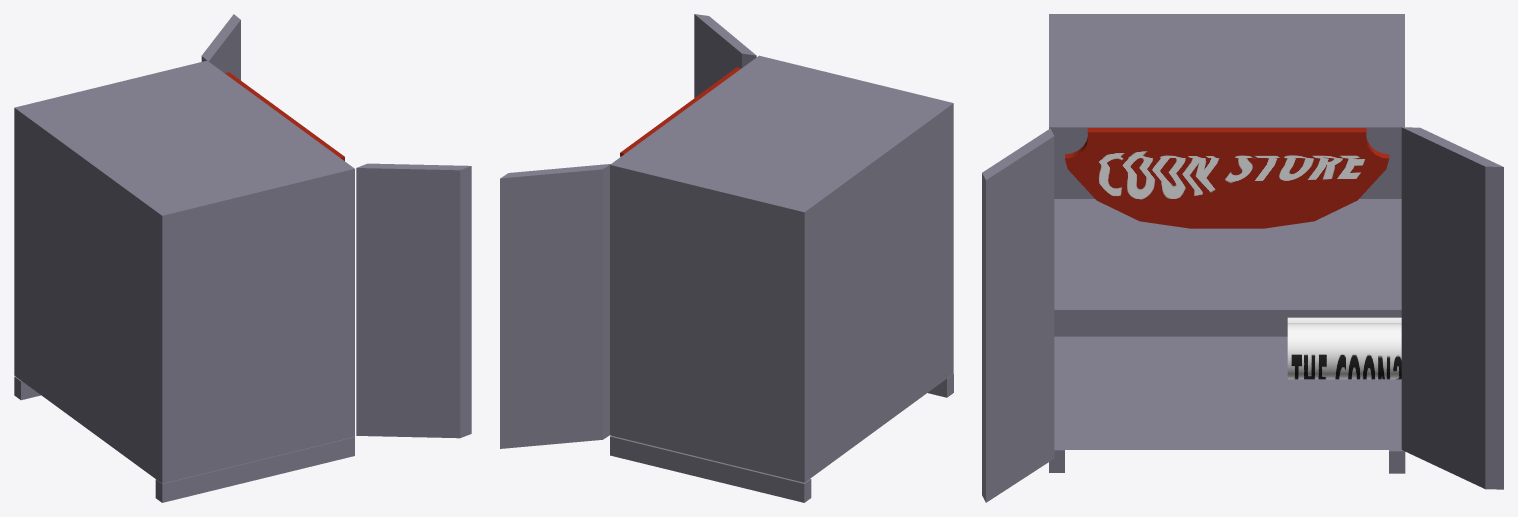
The model's file is Mueble.obj.
3 renders of one model, left to right at view 1: azimuth 30°, elevation 25°; view 2: azimuth 150°, elevation 25°; view 3: azimuth 270°, elevation 25°, orthographic. The views are drawn at different scales.
Visible parts, largest first — view 1: pCube1, pasted__pasted__pCube1 pasted__group2 group3, pasted__pasted__pCube1 pasted__group group1, pasted__pasted__pasted__pCube1 pasted__pasted__group2 pasted__gr, pCube3; view 2: pCube1, pasted__pasted__pasted__pCube1 pasted__pasted__group2 pasted__gr, pasted__pCube1 group, pasted__pasted__pCube1 pasted__group2 group3, pCube3; view 3: pCube1, pCube2, pasted__pasted__pasted__pCube1 pasted__pasted__group2 pasted__gr, pCube3, pasted__pasted__pCube1 pasted__group2 group3, pasted__pCylinder2 group12, pasted__pasted__pCylinder2 pasted__group12 group16.
Boxes of the visible parts, bbox=[...] form: pCube1: bbox=[14, 60, 354, 483]; pasted__pasted__pCube1 pasted__group2 group3: bbox=[356, 163, 471, 438]; pasted__pasted__pCube1 pasted__group group1: bbox=[155, 437, 354, 502]; pasted__pasted__pasted__pCube1 pasted__pasted__group2 pasted__gr: bbox=[201, 14, 240, 80]; pCube3: bbox=[225, 72, 344, 160]; pCube1: bbox=[610, 55, 953, 482]; pasted__pasted__pasted__pCube1 pasted__pasted__group2 pasted__gr: bbox=[500, 164, 610, 448]; pasted__pCube1 group: bbox=[610, 435, 811, 502]; pasted__pasted__pCube1 pasted__group2 group3: bbox=[694, 14, 756, 97]; pCube3: bbox=[620, 67, 741, 156]; pCube1: bbox=[1049, 14, 1404, 449]; pCube2: bbox=[1054, 199, 1401, 317]; pasted__pasted__pasted__pCube1 pasted__pasted__group2 pasted__gr: bbox=[1401, 127, 1503, 489]; pCube3: bbox=[1065, 128, 1389, 228]; pasted__pasted__pCube1 pasted__group2 group3: bbox=[982, 128, 1054, 502]; pasted__pCylinder2 group12: bbox=[1287, 323, 1401, 379]; pasted__pasted__pCylinder2 pasted__group12 group16: bbox=[1287, 317, 1401, 322].
Bounding box in the file's own units: 3.71 × 3.6 × 4.91.
Materials: 5 (5 with a texture image).
